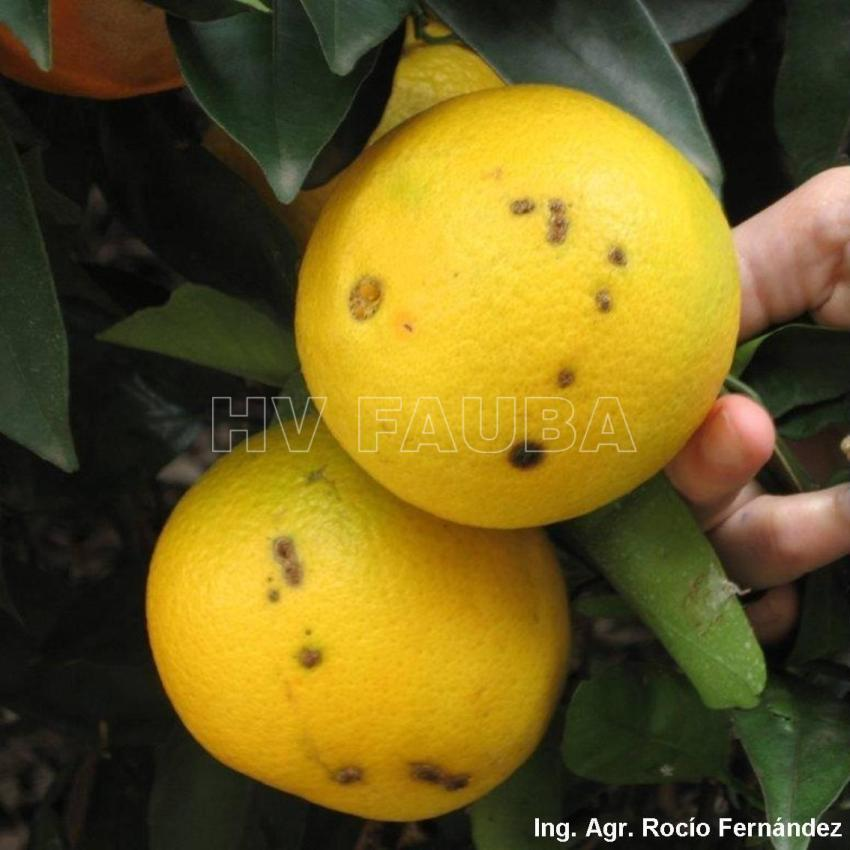Mal estado: (249, 72, 756, 557), (107, 410, 582, 836)
